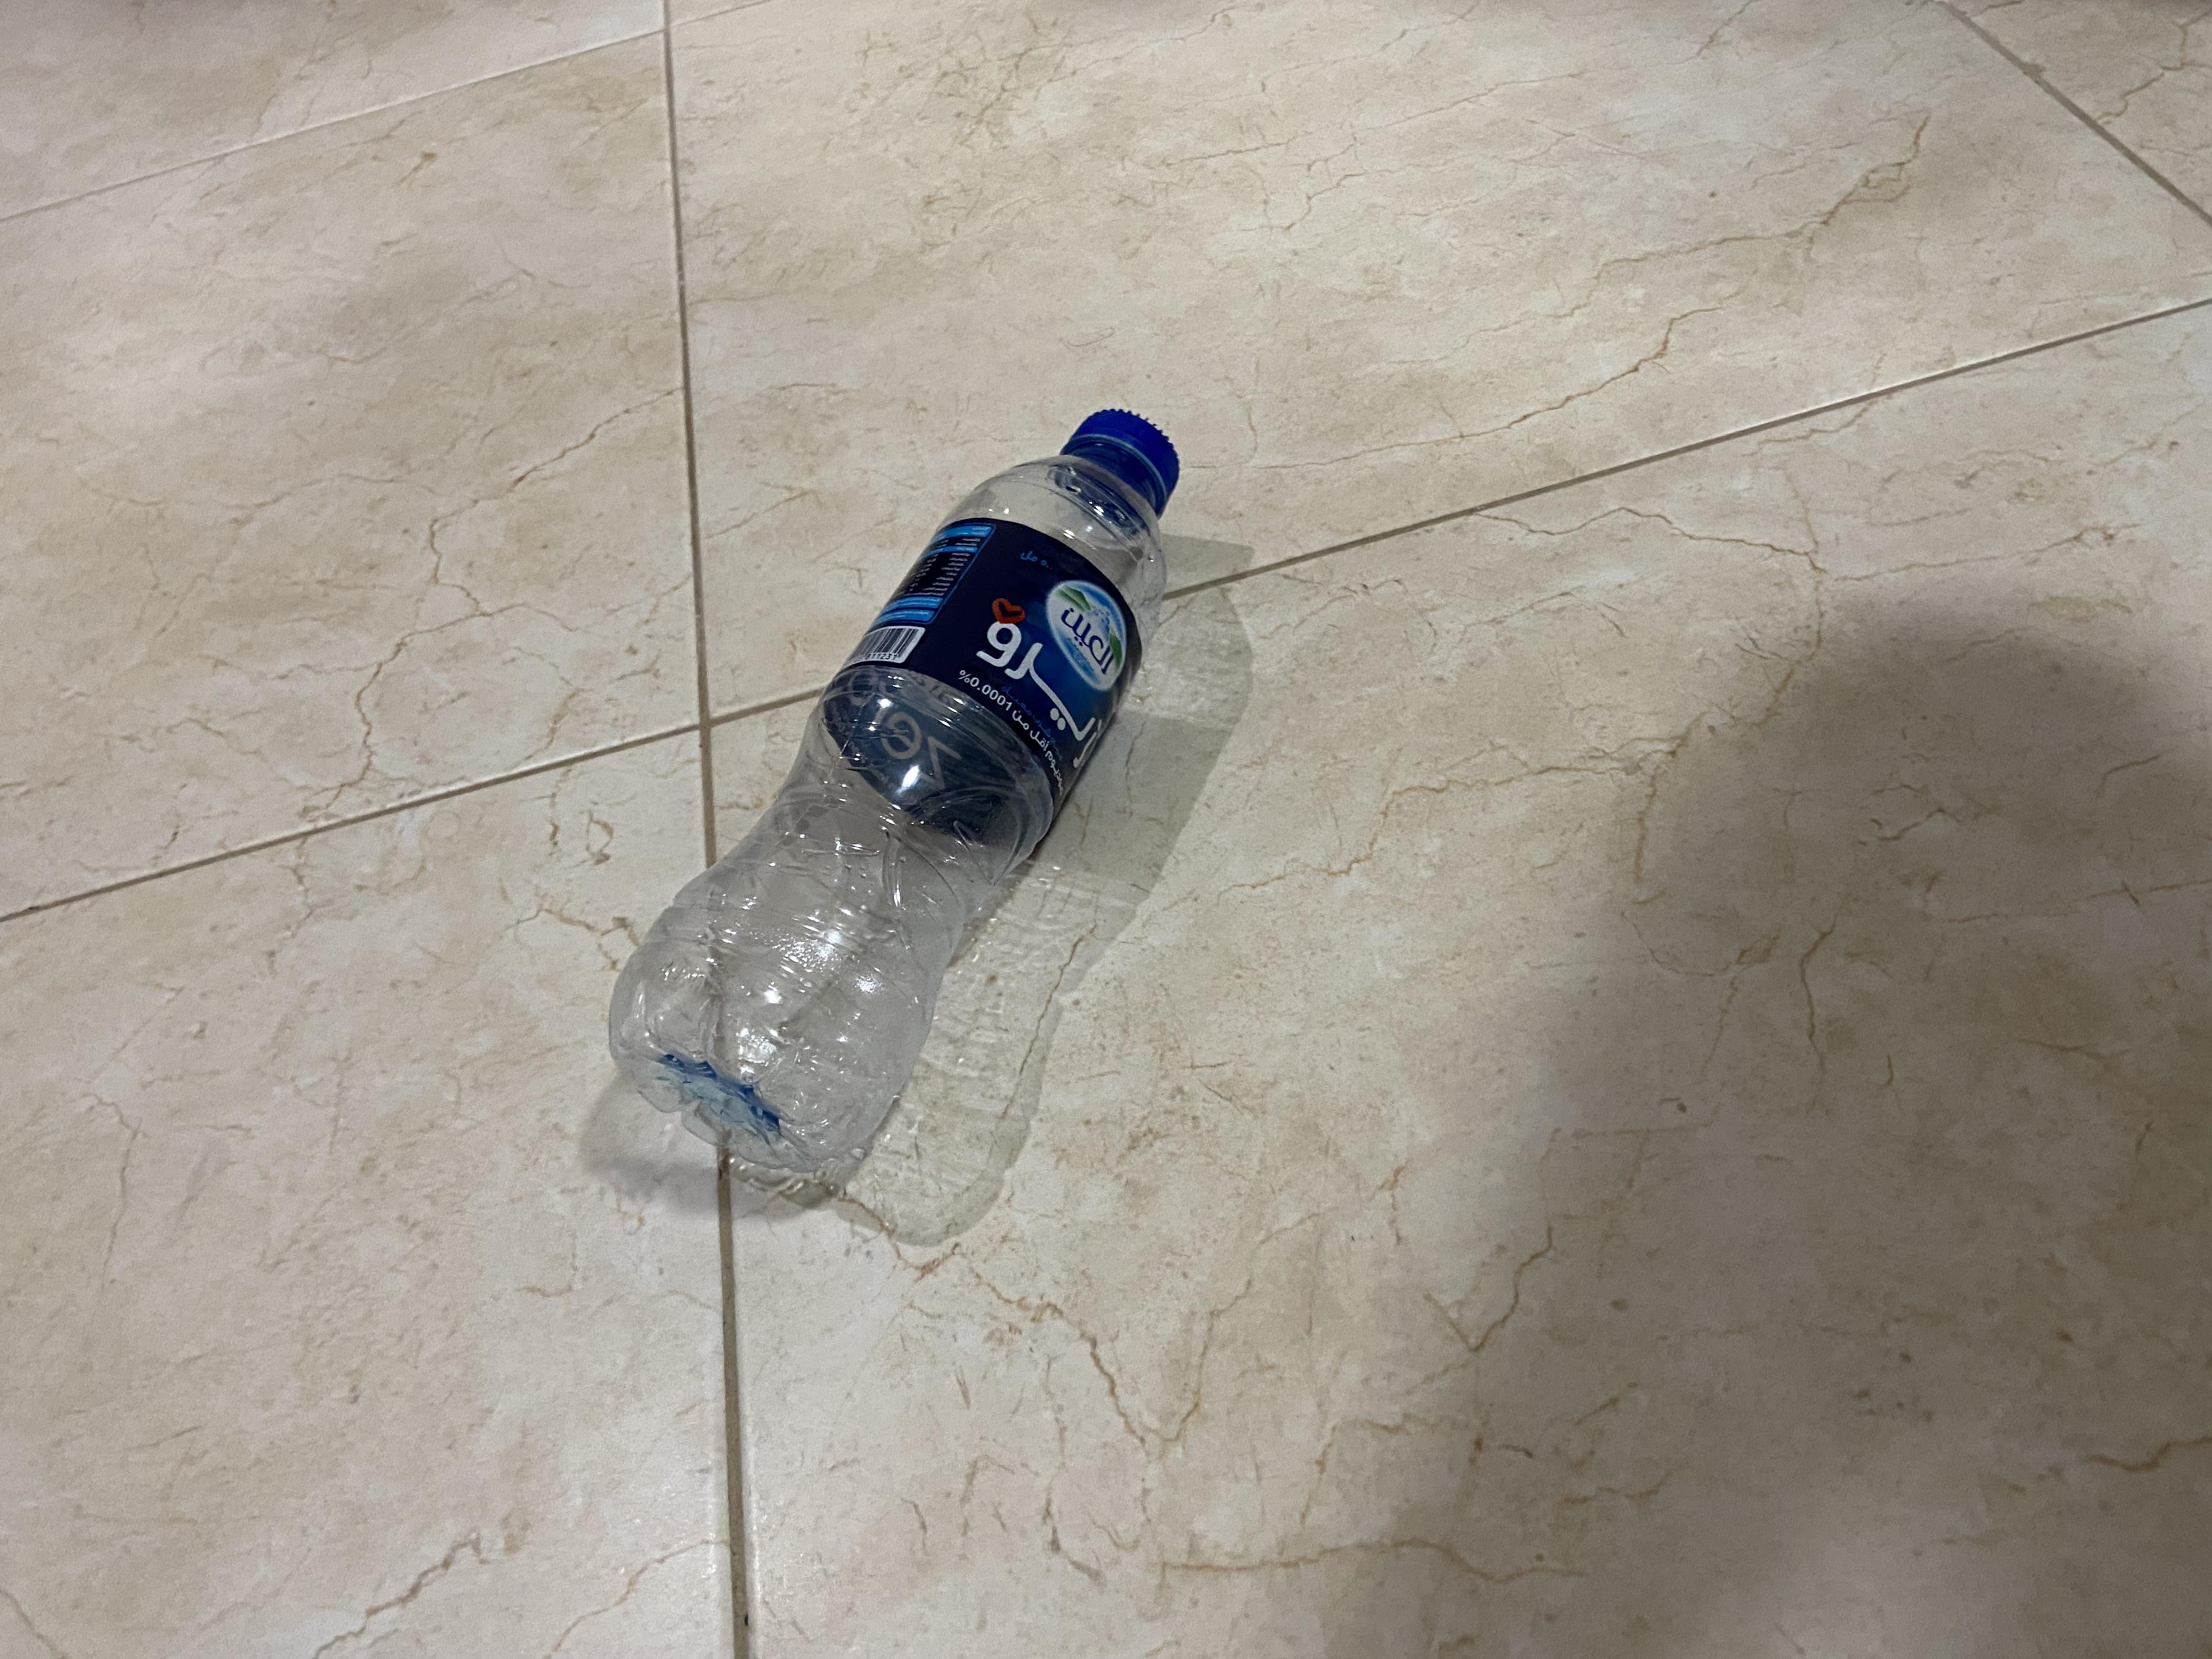bottle: (632, 432, 1735, 894)
